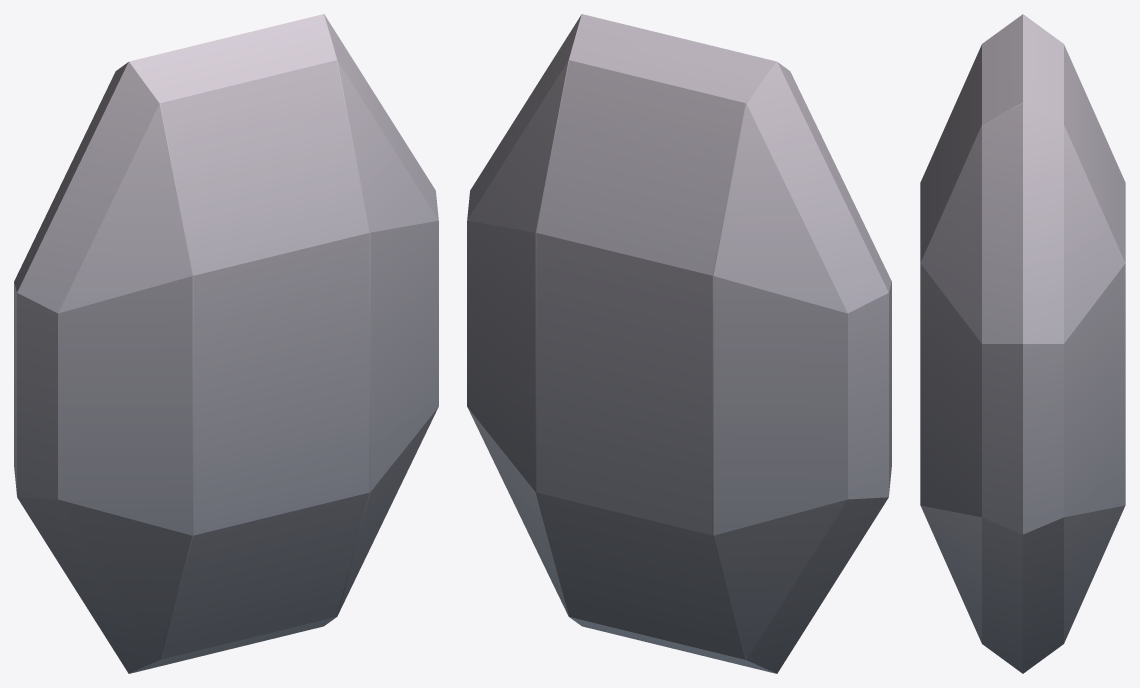
File: Ruby2.fbx
The picture shows the model from 3 angles, left to right: view 1: azimuth 30°, elevation 25°; view 2: azimuth 150°, elevation 25°; view 3: azimuth 270°, elevation 25°; orthographic projection. The views are drawn at different scales.
Visible parts, largest first — view 1: Ruby2; view 2: Ruby2; view 3: Ruby2.
Boxes of the visible parts, x1=… form: Ruby2: x1=14, y1=14, x2=438, y2=673; Ruby2: x1=467, y1=14, x2=891, y2=673; Ruby2: x1=920, y1=14, x2=1125, y2=673.
Size of the model in its own units: 175 by 244 by 79.39.
